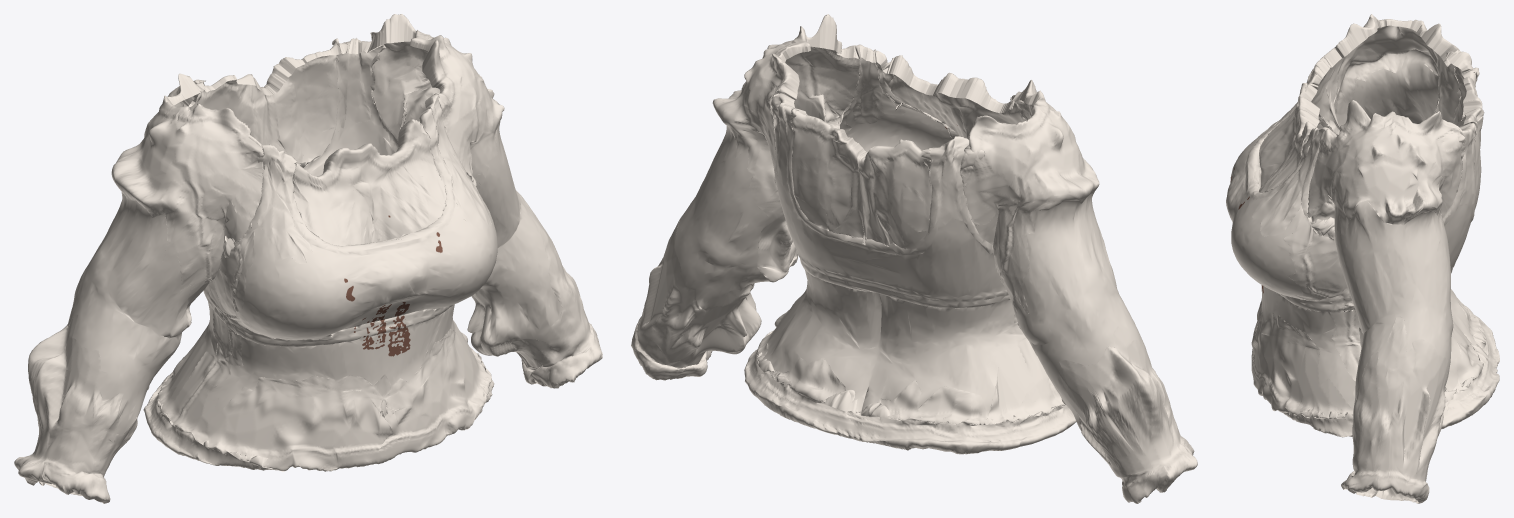
The model's file is top_f_peasant.glb.
3 views of the same model, side by side, from view 1: azimuth 30°, elevation 25°; view 2: azimuth 150°, elevation 25°; view 3: azimuth 270°, elevation 25° (orthographic). The views are drawn at different scales.
Visible parts, largest first — view 1: top_f_peasant; view 2: top_f_peasant; view 3: top_f_peasant.
Part boxes in pixels (<box>): top_f_peasant: <box>14,14,602,503</box>; top_f_peasant: <box>631,14,1197,503</box>; top_f_peasant: <box>1226,14,1499,503</box>.
Size of the model in its own units: 0.8147 by 0.5344 by 0.3757.
1 material, 1 textured.
